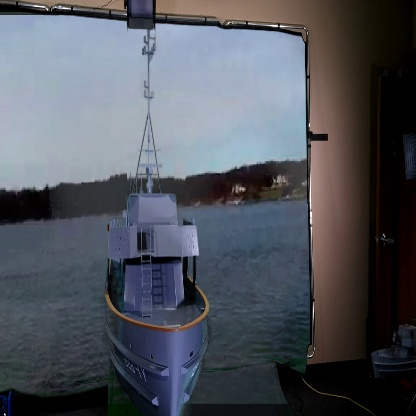YP689: (102, 31, 210, 416)
